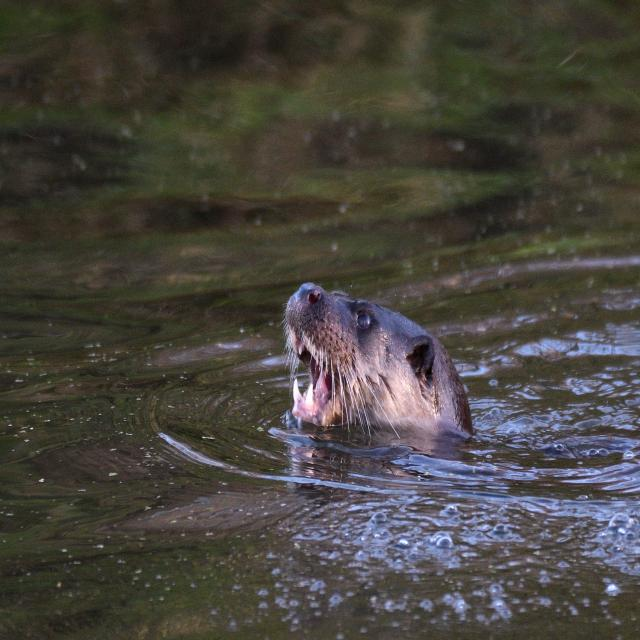otter: (290, 286, 471, 437)
